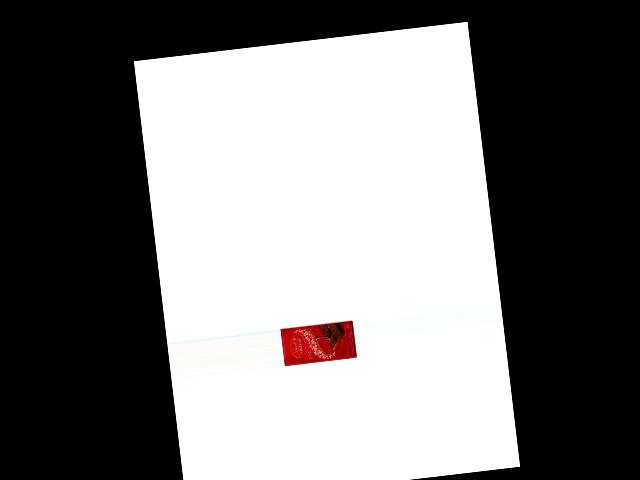chocolate: (280, 316, 356, 367)
